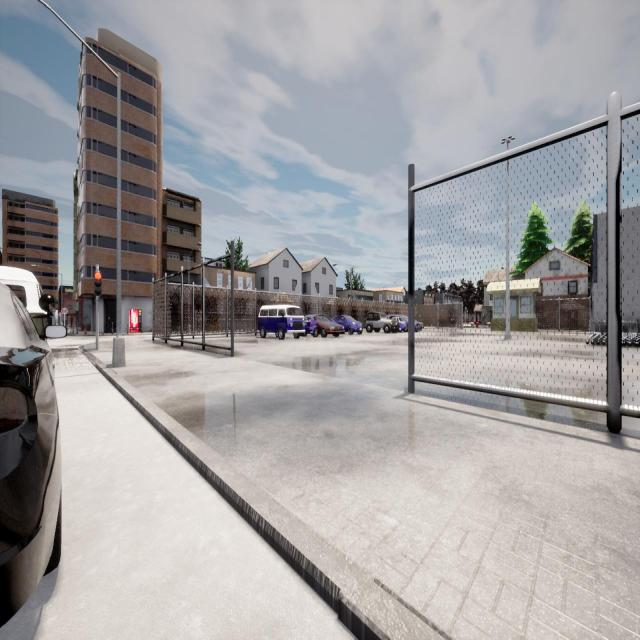Pedestrian: (70, 314, 74, 328)
Traffic_Signs: (62, 308, 68, 314), (59, 313, 62, 317)
Vehicle: (0, 284, 61, 626), (0, 266, 49, 339), (258, 306, 305, 338), (306, 314, 345, 337), (366, 312, 399, 333), (389, 314, 424, 333), (333, 316, 362, 335)
traffic_light: (94, 272, 102, 295)
